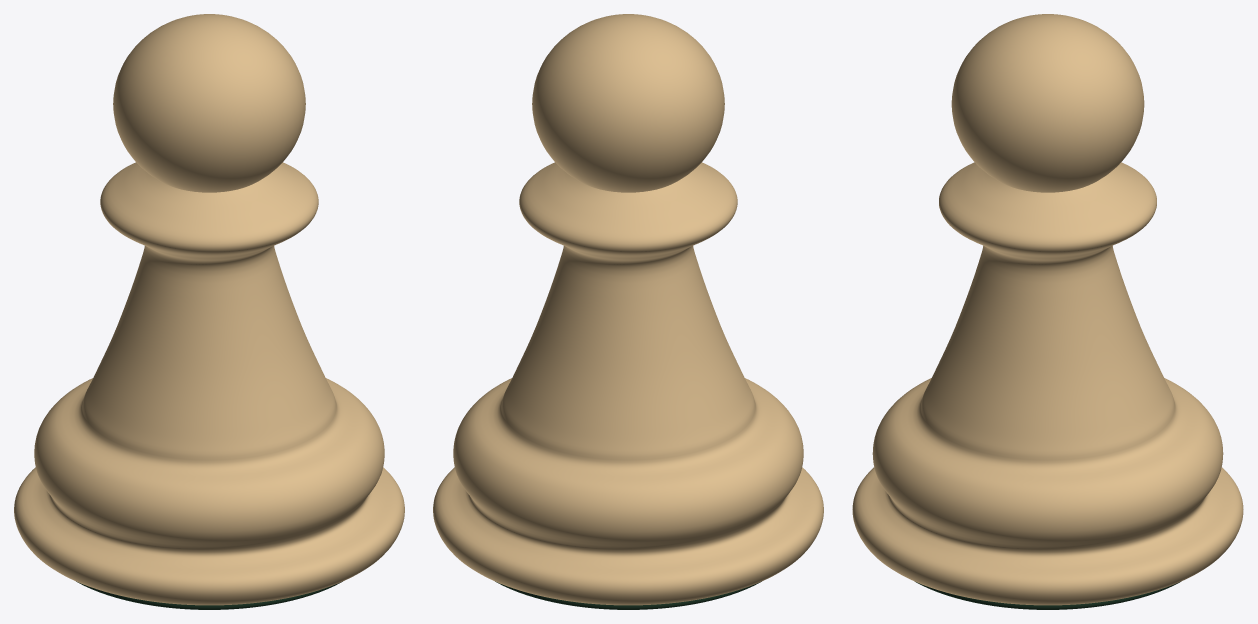
File: pawn.glb
3 renders of one model, left to right at view 1: azimuth 30°, elevation 25°; view 2: azimuth 150°, elevation 25°; view 3: azimuth 270°, elevation 25°, orthographic.
Visible parts, largest first — view 1: Pawn.002; view 2: Pawn.002; view 3: Pawn.002.
Boxes of the visible parts, box(x1,y1,x2,y2) form: Pawn.002: box(14, 14, 404, 609); Pawn.002: box(433, 14, 823, 609); Pawn.002: box(852, 14, 1243, 609).
Size of the model in its own units: 0.0326 by 0.0477 by 0.0326.
